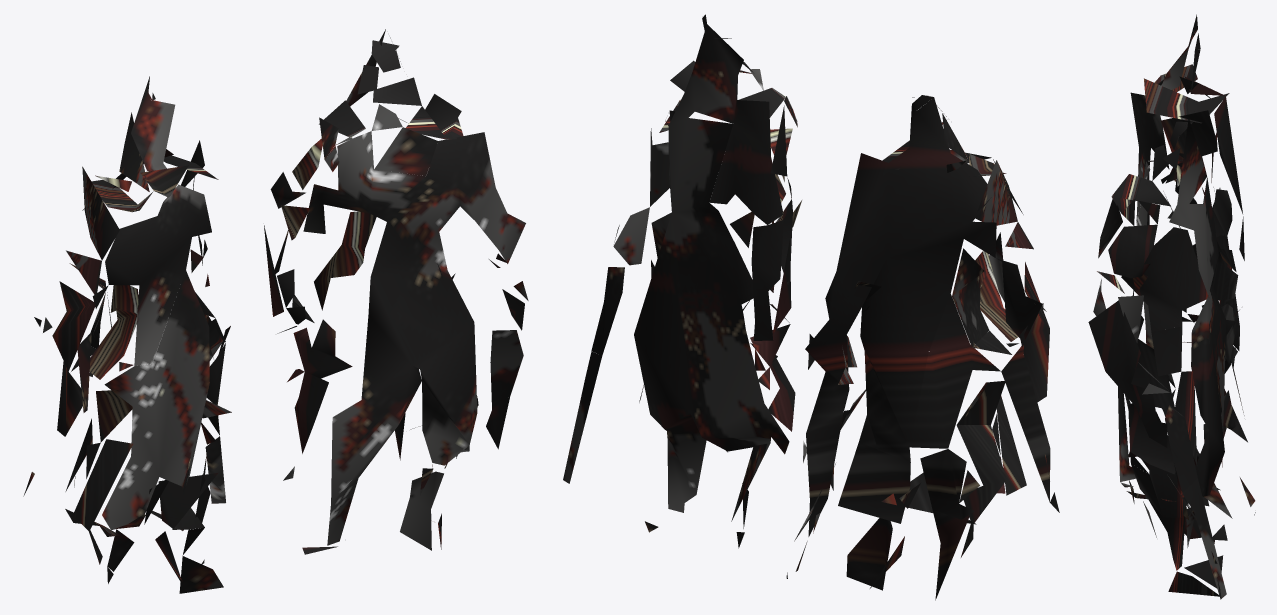
3 renders of one model, left to right at view 1: azimuth 30°, elevation 25°; view 2: azimuth 150°, elevation 25°; view 3: azimuth 270°, elevation 25°, orthographic. The views are drawn at different scales.
Parts seen in each view (by area): view 1: body.002; view 2: body.002; view 3: body.002.
Boxes of the visible parts, x1,y1,x2,y2 form: body.002: (23, 29, 528, 593); body.002: (563, 14, 1059, 600); body.002: (1088, 14, 1255, 599).
Size of the model in its own units: 1.9 by 1.98 by 0.6587.
1 material, 1 textured.
